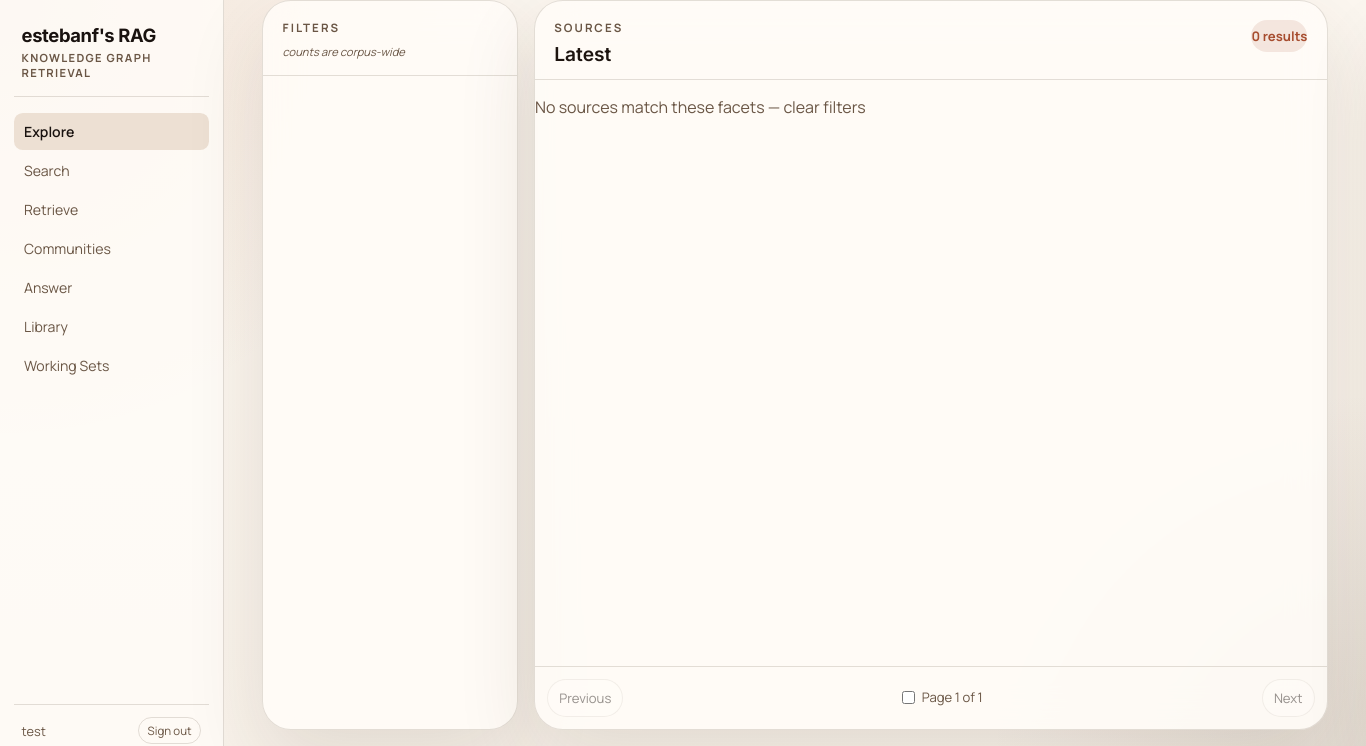
Test case: App › community view renders scope selector, advanced args with help text, and enabled Run button
Click the button "Communities" at (112, 248), box [14,230,209,267]
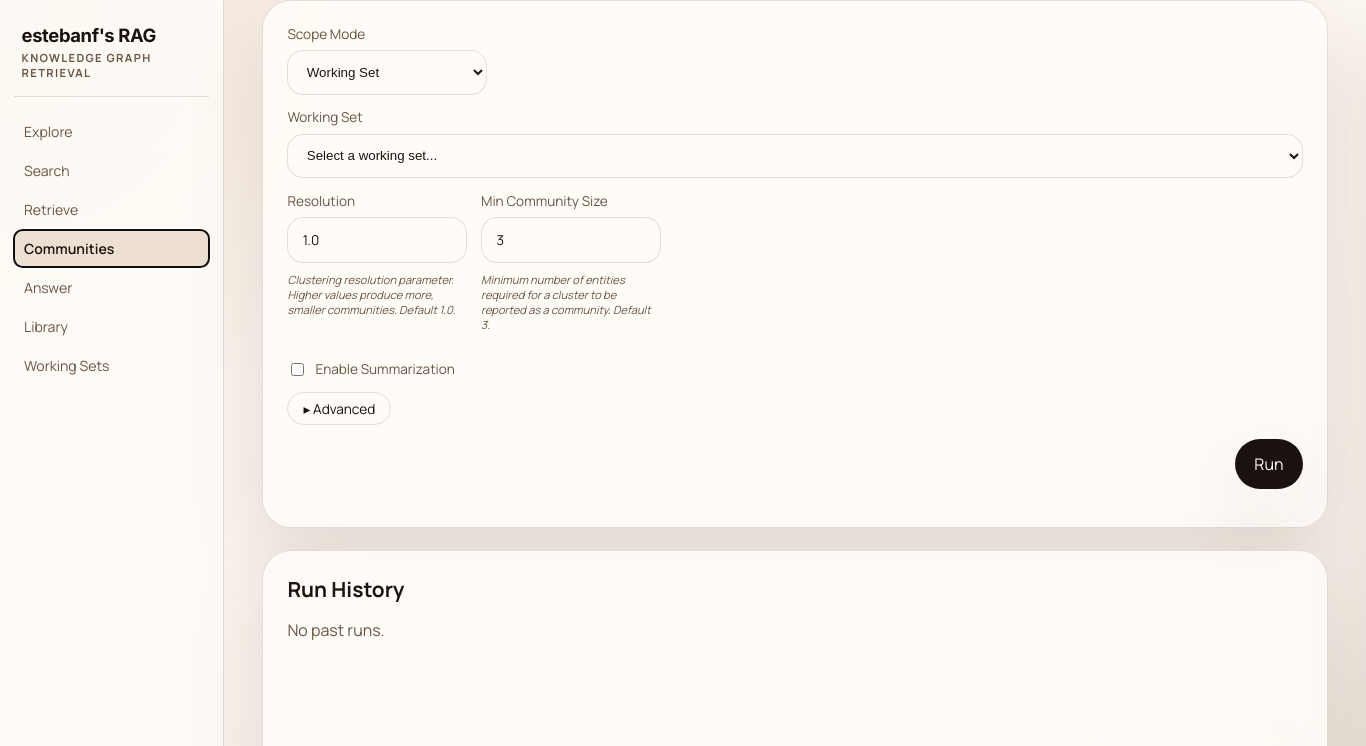
expect the dropdown labelled "Scope Mode" is shown: met, box [287,50,487,95]
expect the button "Run" is shown: met, box [1235,439,1303,490]
Click the button "▸ Advanced" at (339, 409), box [287,392,391,425]
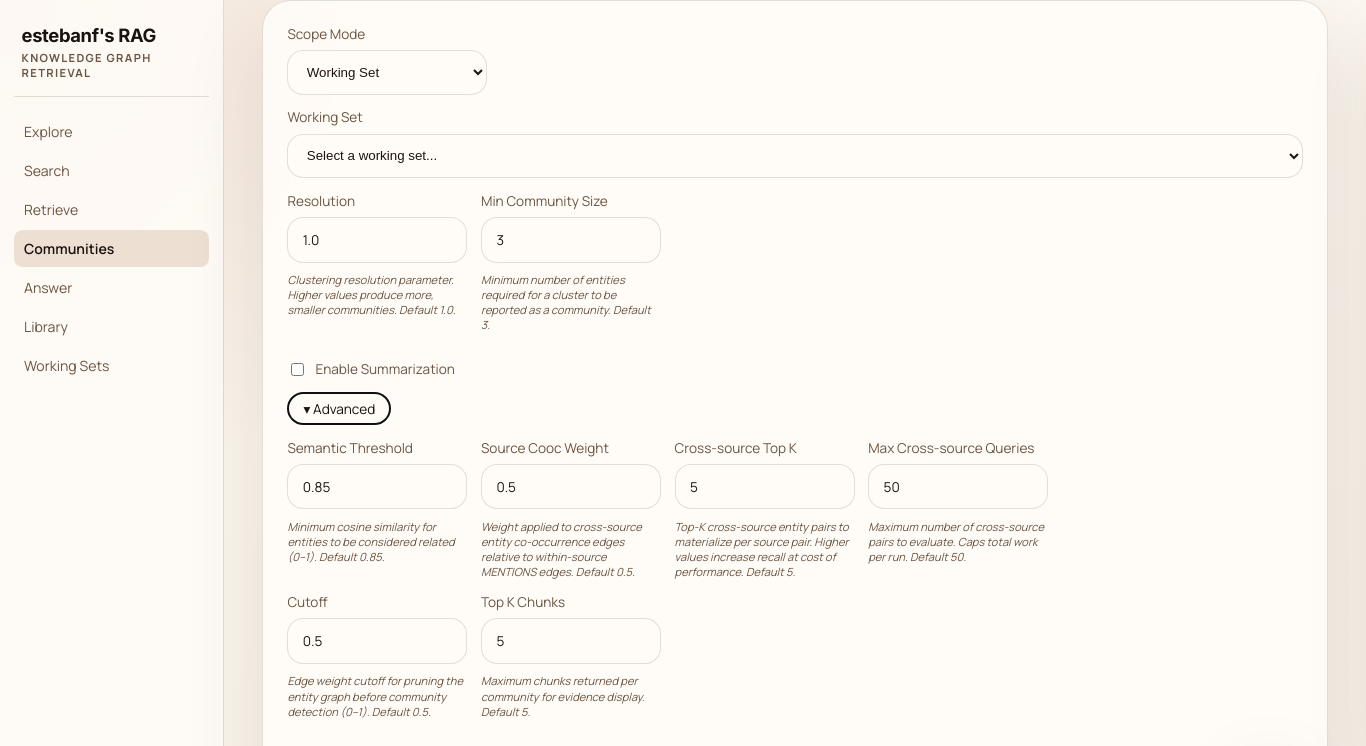
expect the number field labelled "Semantic Threshold" is shown: met, box [287,464,467,510]
expect the number field labelled "Cross-source Top K" is shown: met, box [675,464,855,510]
